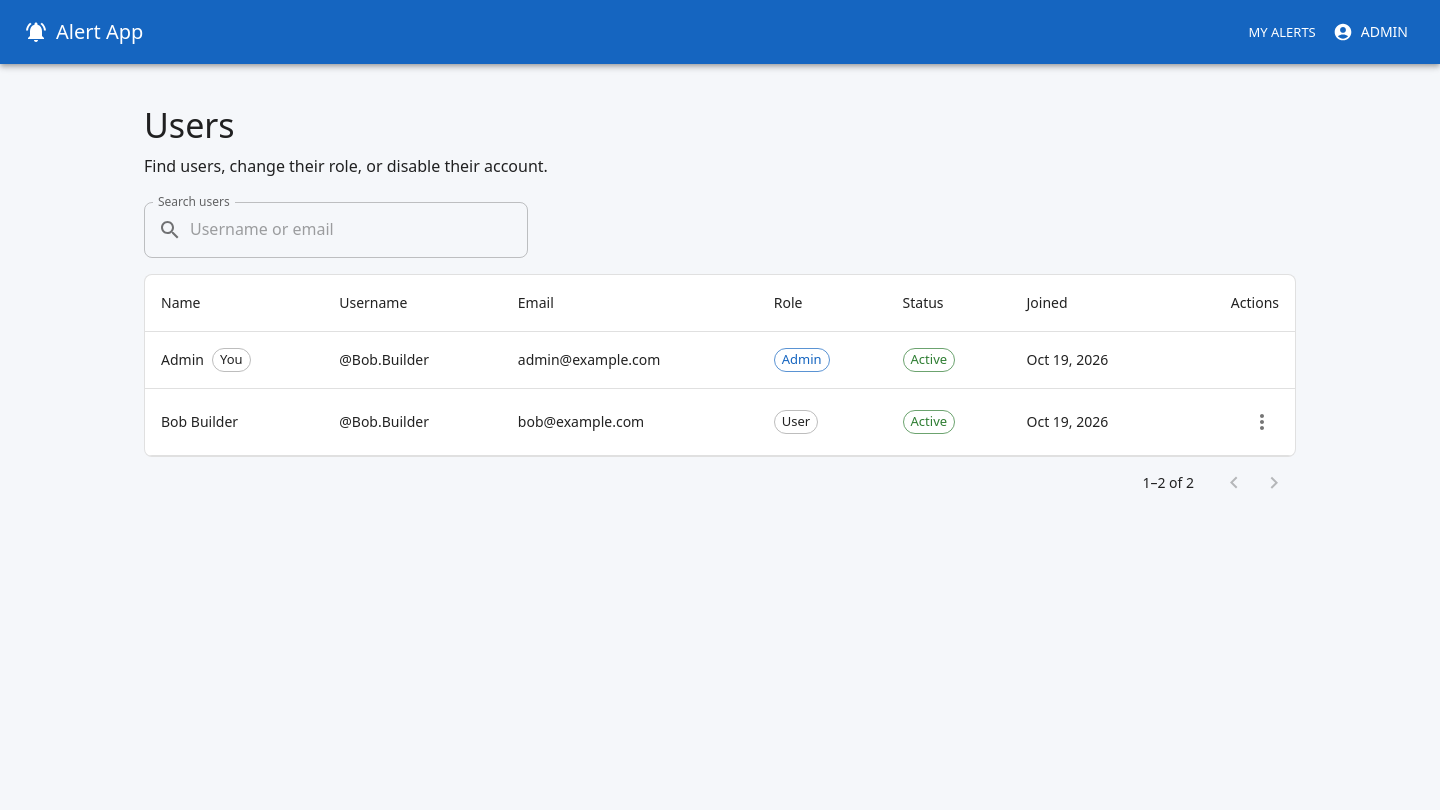
Scenario: AdminUsersPage › asks before disabling: Cancel changes nothing, Disable does
The width and height of the screenshot is (1440, 810).
Click the button named "Actions for Bob Builder" at {"x": 1262, "y": 422}, box [1245,405,1279,439]
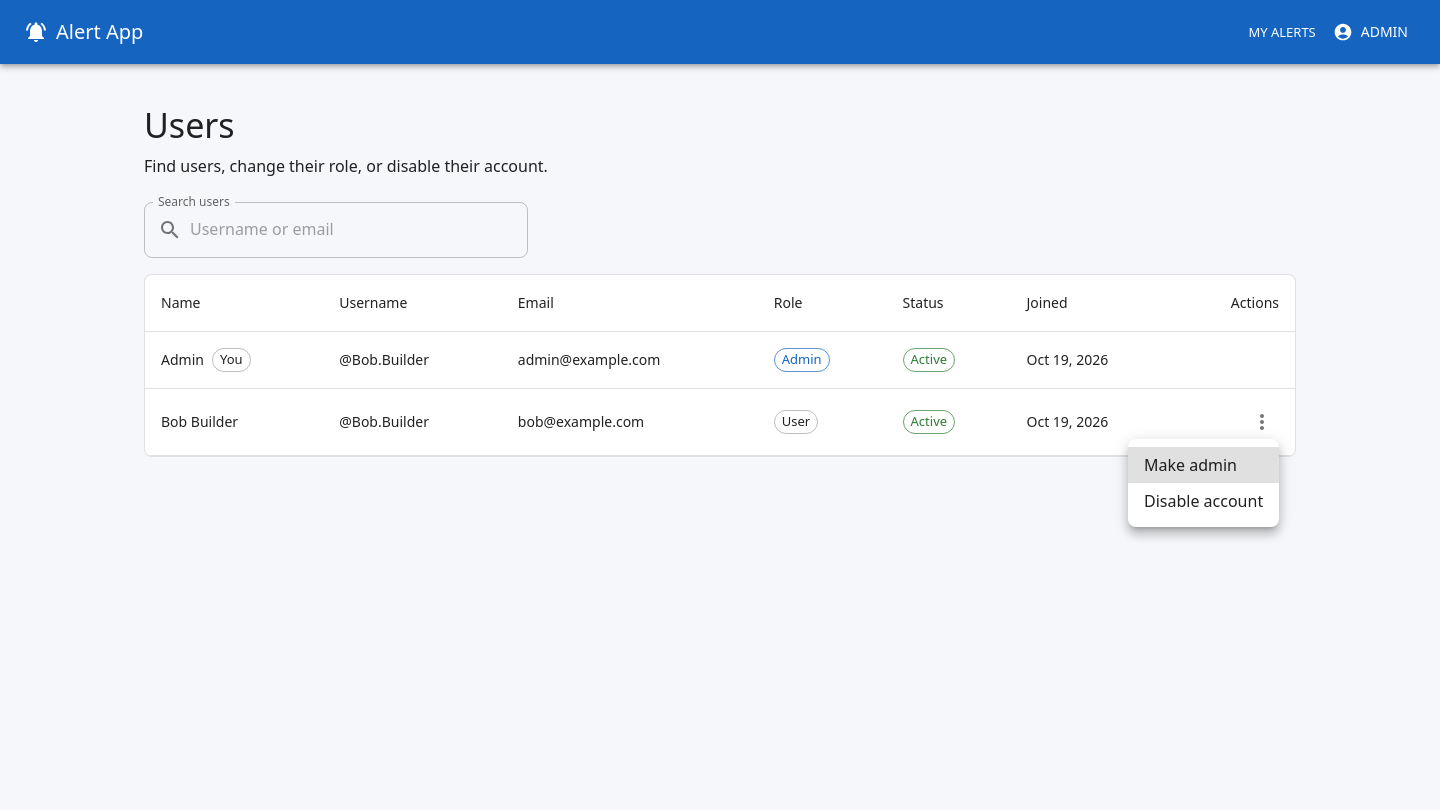
Click the menu item "Disable account" at {"x": 1204, "y": 501}, box [1144,490,1263,512]
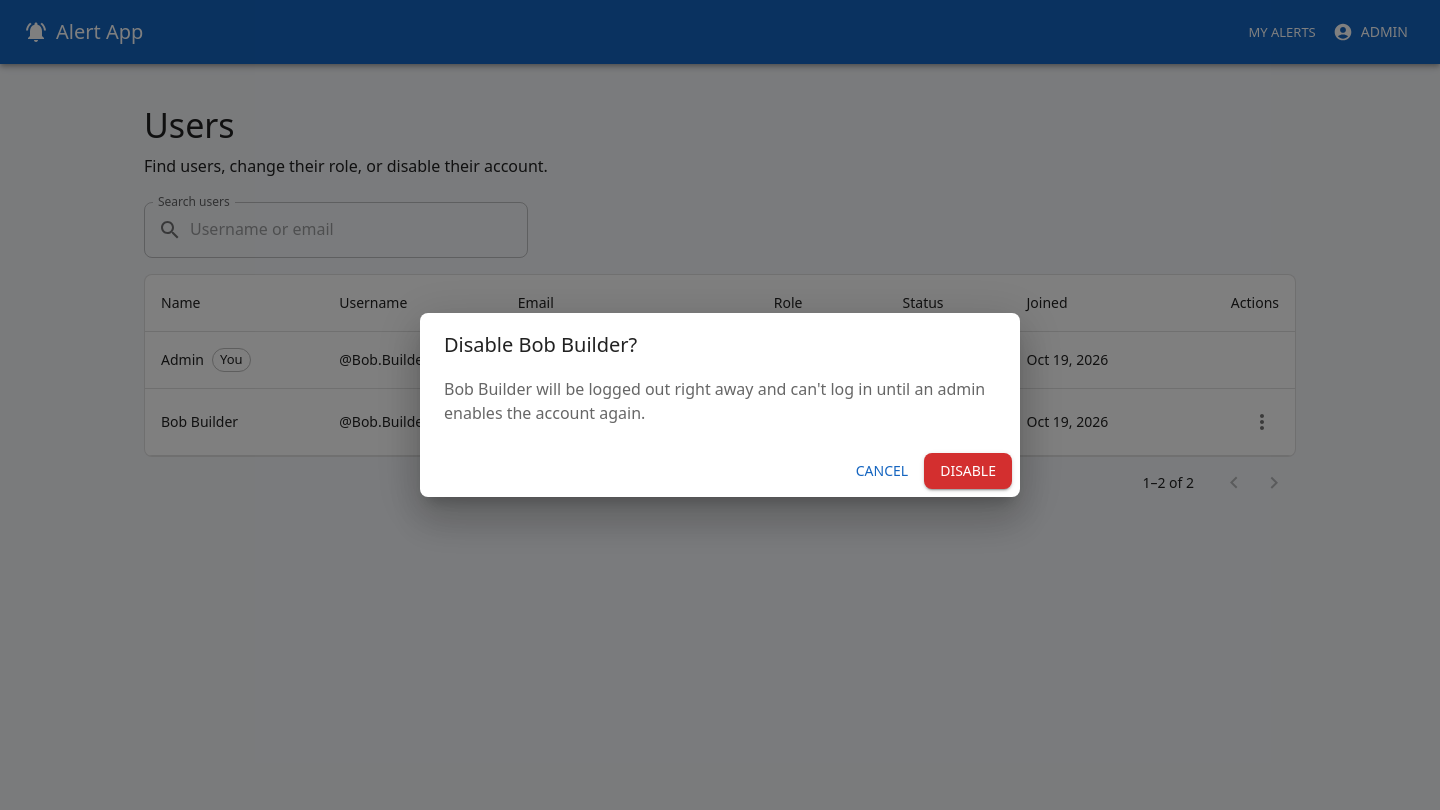
Click the button "Cancel" at {"x": 882, "y": 471}, box [848,453,916,489]
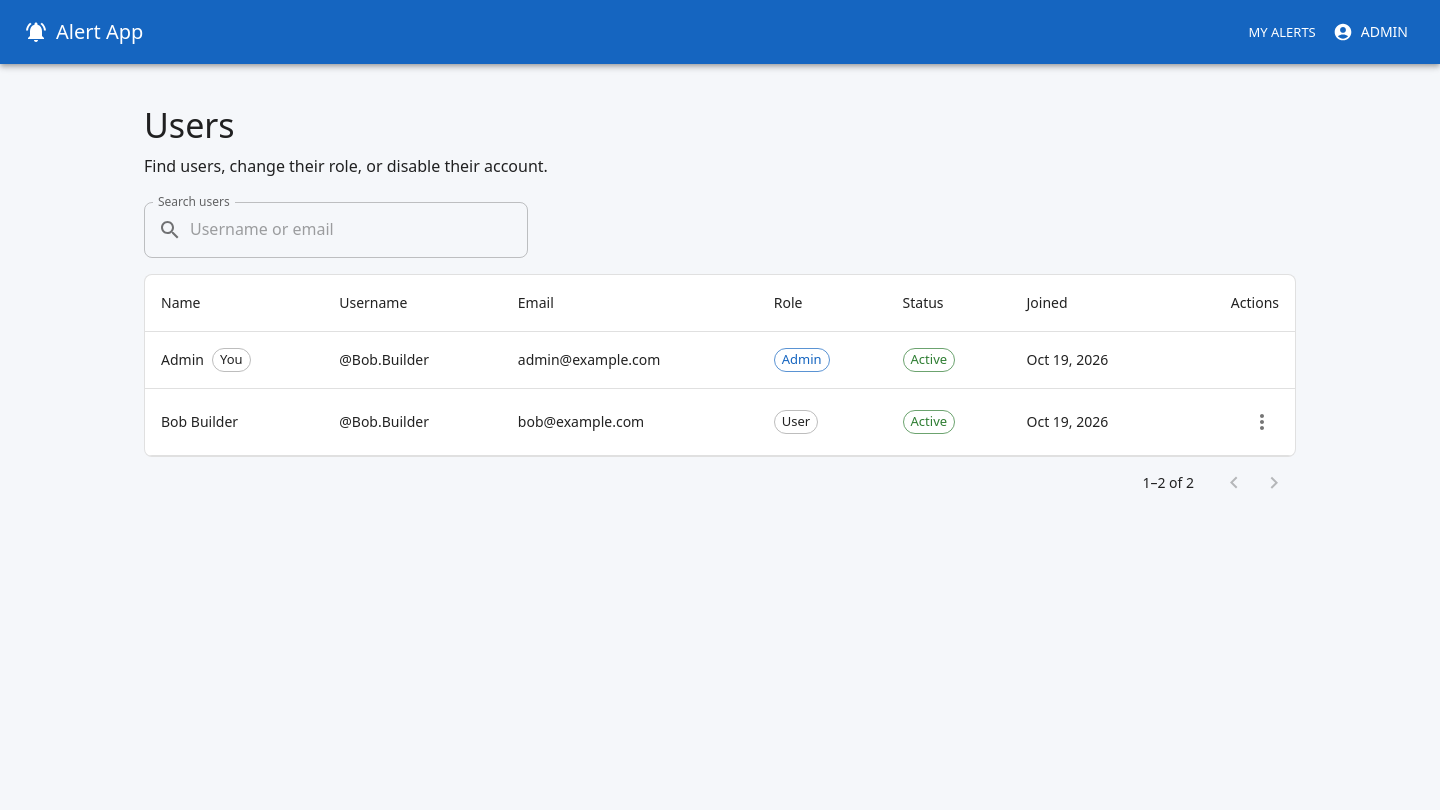
Click the button named "Actions for Bob Builder" at {"x": 1262, "y": 422}, box [1245,405,1279,439]
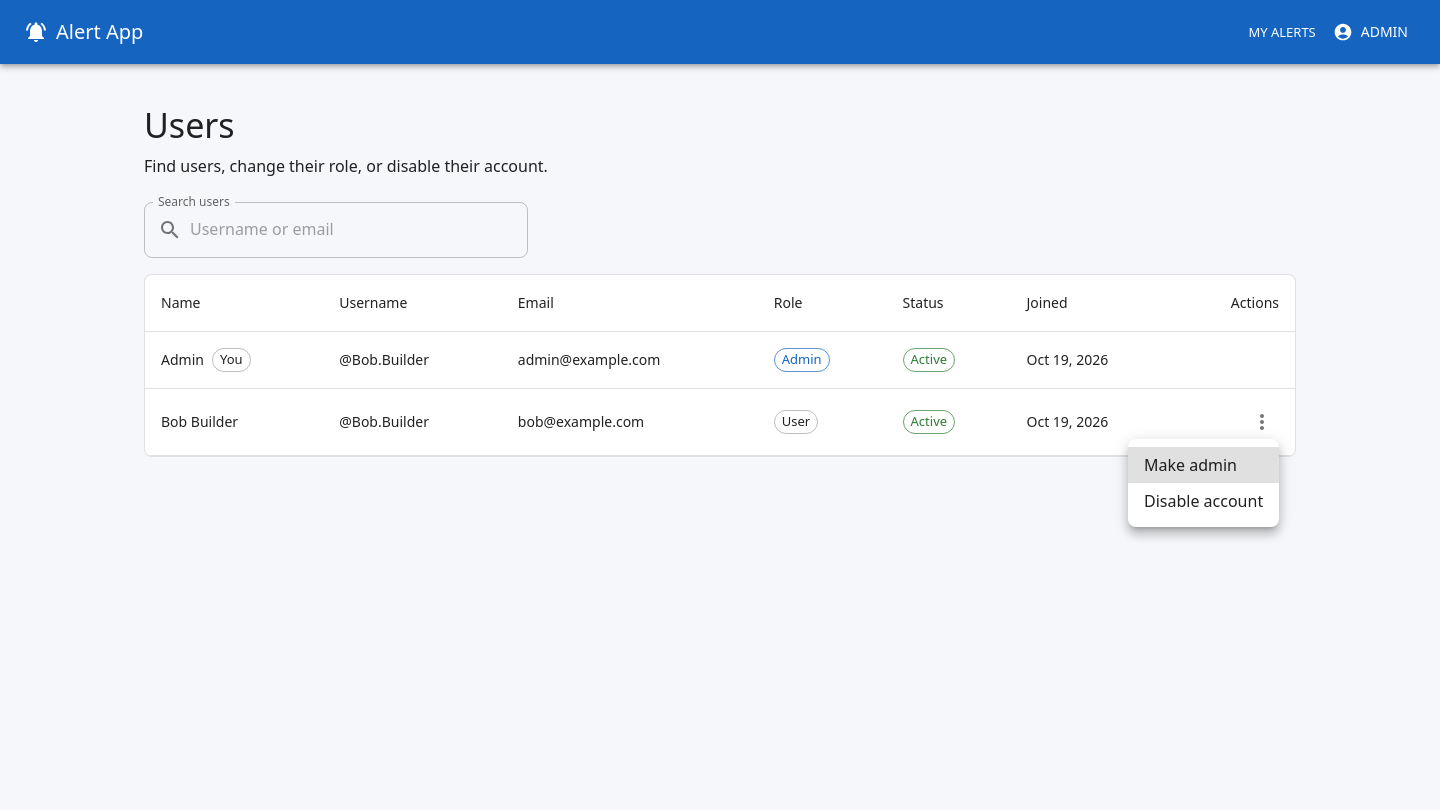
Click the menu item "Disable account" at {"x": 1204, "y": 501}, box [1144,490,1263,512]
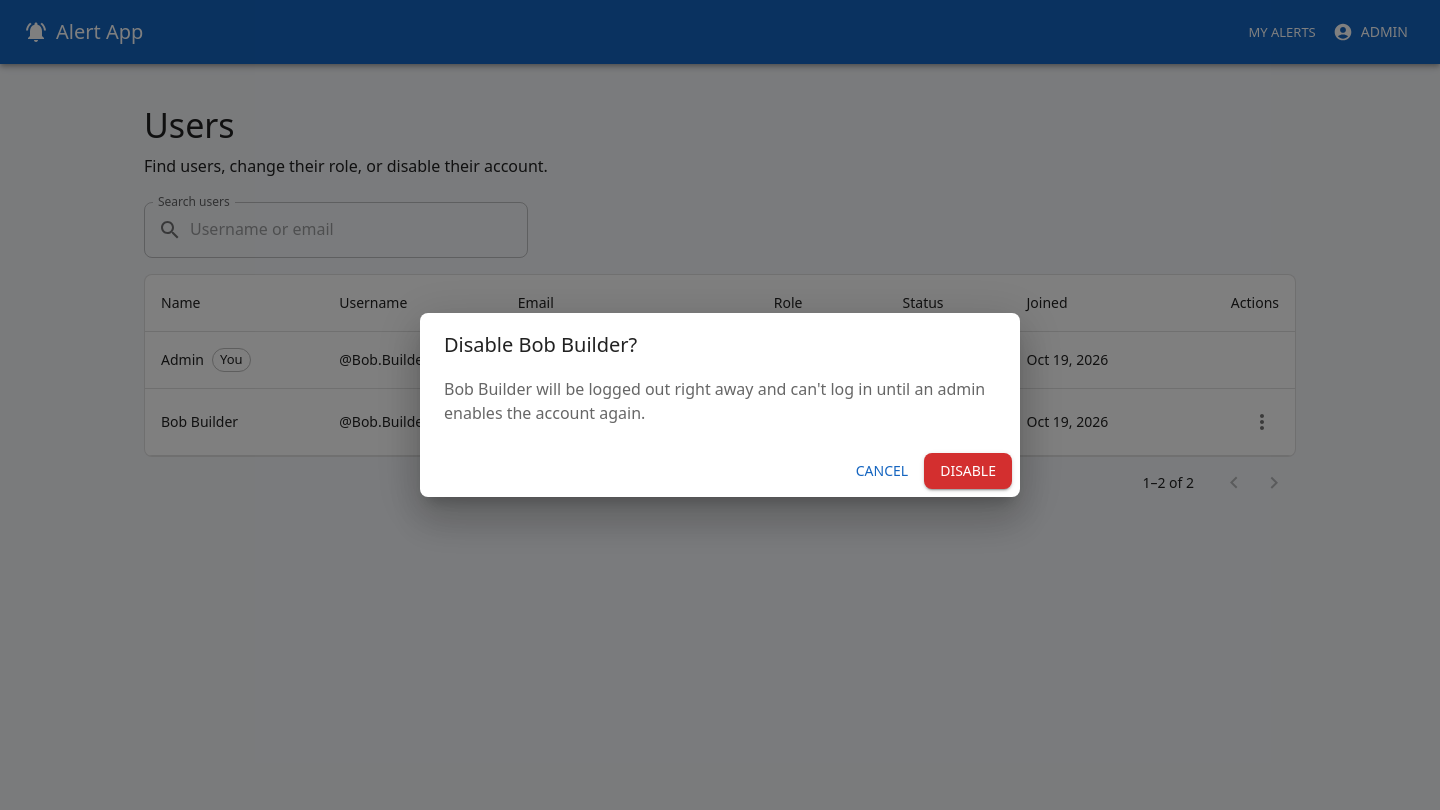
Click the button "Disable" at {"x": 968, "y": 471}, box [924,453,1012,489]
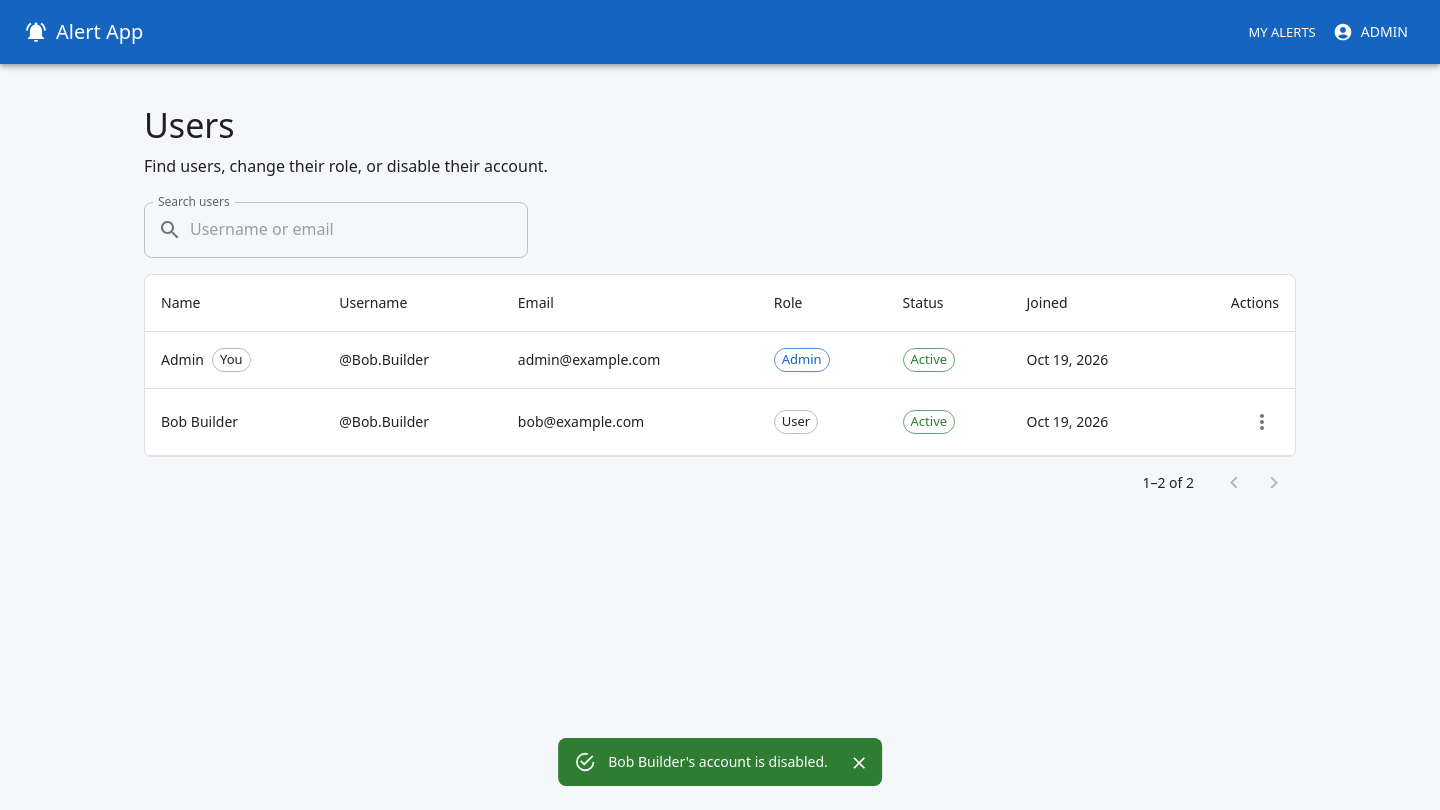
Now the text "Bob Builder's account is disabled." is shown, box [608,752,828,771]
